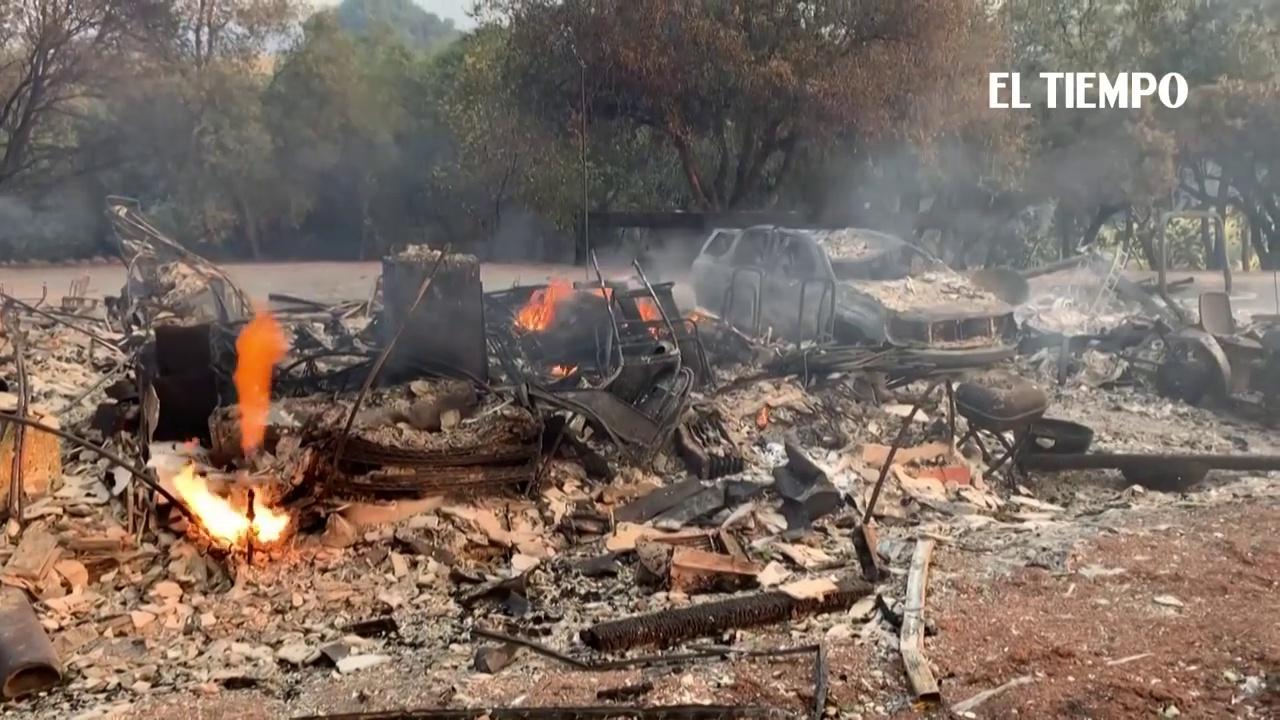Fire: (178, 467, 295, 547), (230, 310, 281, 449), (518, 276, 569, 329)
